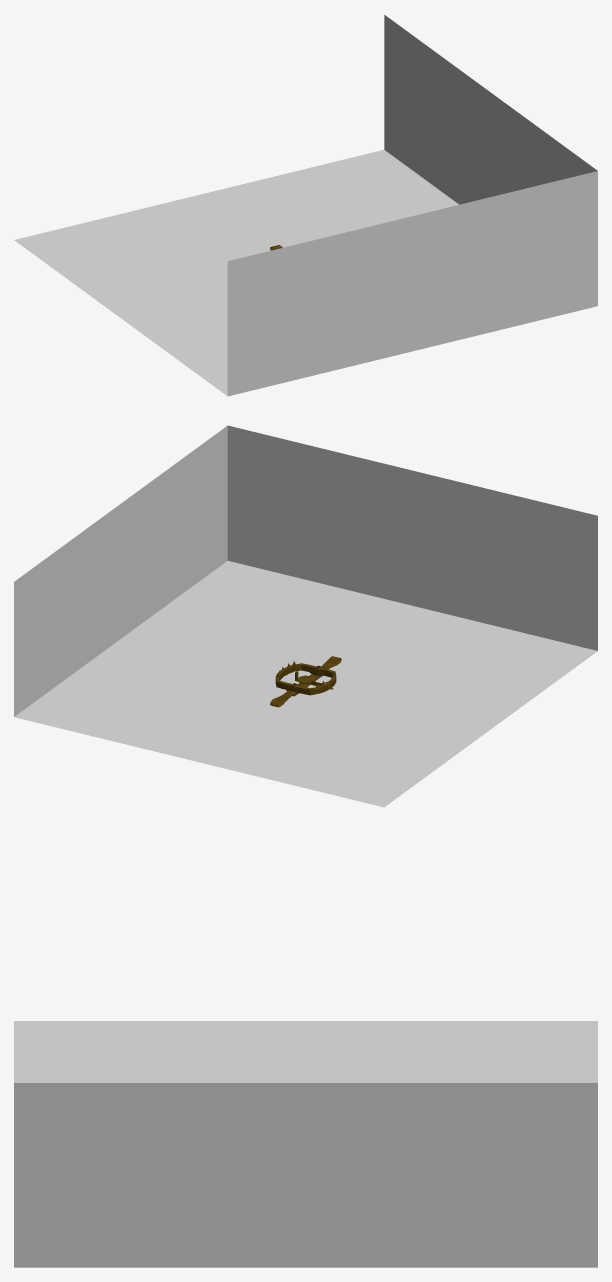
The model's file is Bear_Trap.fbx.
3 renders of one model, top to bottom at view 1: azimuth 30°, elevation 25°; view 2: azimuth 150°, elevation 25°; view 3: azimuth 270°, elevation 25°, orthographic. The views are drawn at different scales.
Visible parts, largest first — view 1: Plane; view 2: Plane; view 3: Plane.
Part boxes in pixels (x1,y1,x2,y2): Plane: [14, 15, 597, 396]; Plane: [14, 425, 597, 807]; Plane: [14, 1021, 597, 1267].
Size of the model in its own units: 1601 by 561 by 1601.
2 materials, 1 textured.
